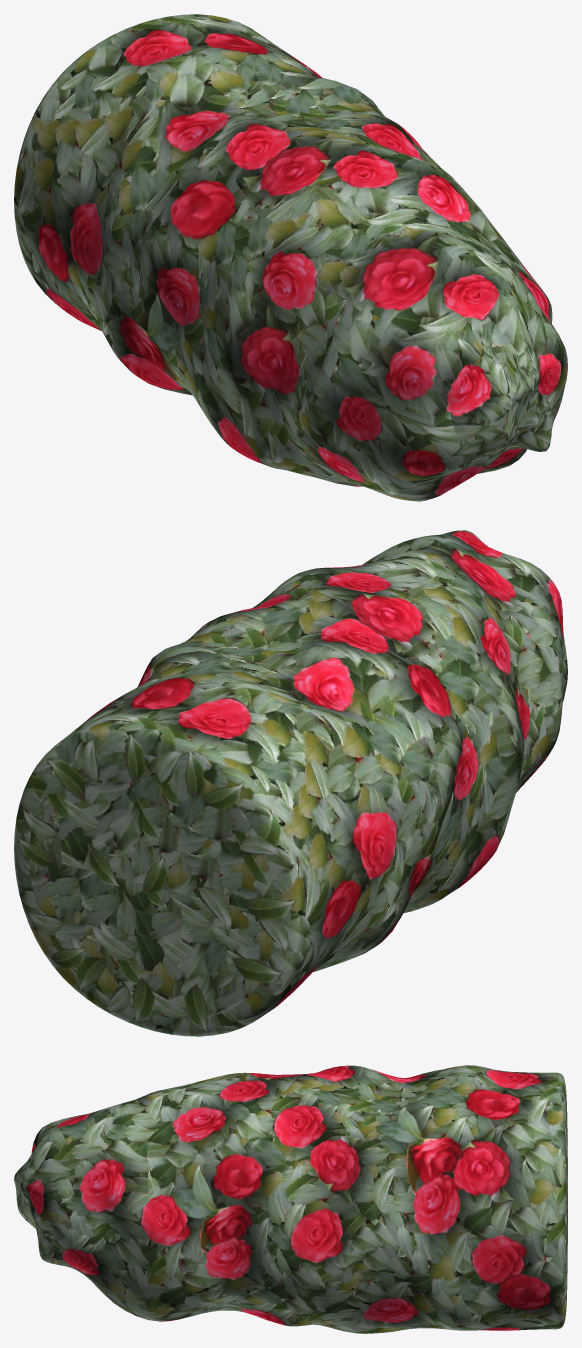
File: 10437_Camelia_Plant_v2_max2011_it2.obj
3 renders of one model, top to bottom at view 1: azimuth 30°, elevation 25°; view 2: azimuth 150°, elevation 25°; view 3: azimuth 270°, elevation 25°, orthographic. The views are drawn at different scales.
Parts seen in each view (by area): view 1: 10437_Camelia_Plant_v1; view 2: 10437_Camelia_Plant_v1; view 3: 10437_Camelia_Plant_v1.
Part boxes in pixels (x1,y1,x2,y2): 10437_Camelia_Plant_v1: (14, 14, 567, 501); 10437_Camelia_Plant_v1: (14, 530, 567, 1036); 10437_Camelia_Plant_v1: (14, 1065, 567, 1333).
Size of the model in its own units: 70.4 by 73.47 by 151.
1 material, 1 textured.
